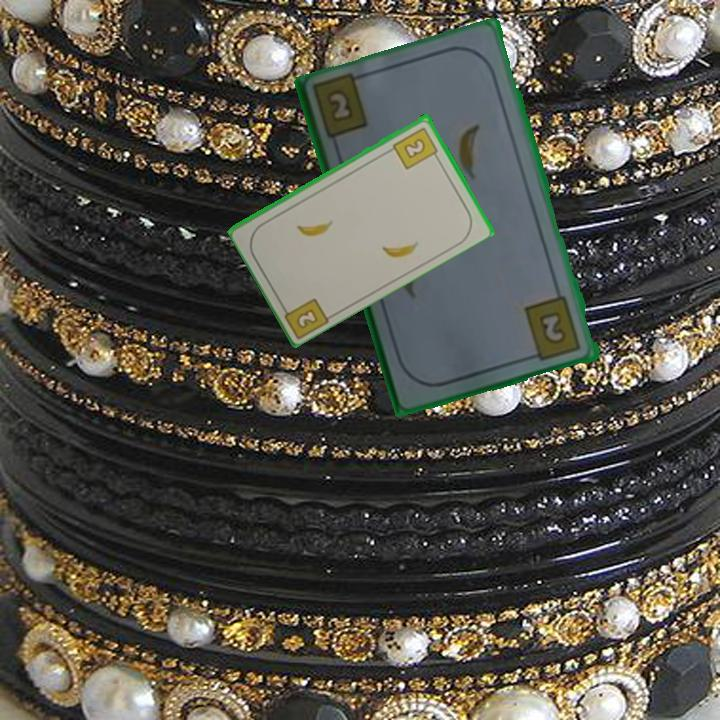2b: (521, 293, 585, 364), (389, 123, 442, 172), (277, 294, 333, 340), (325, 89, 357, 126)
